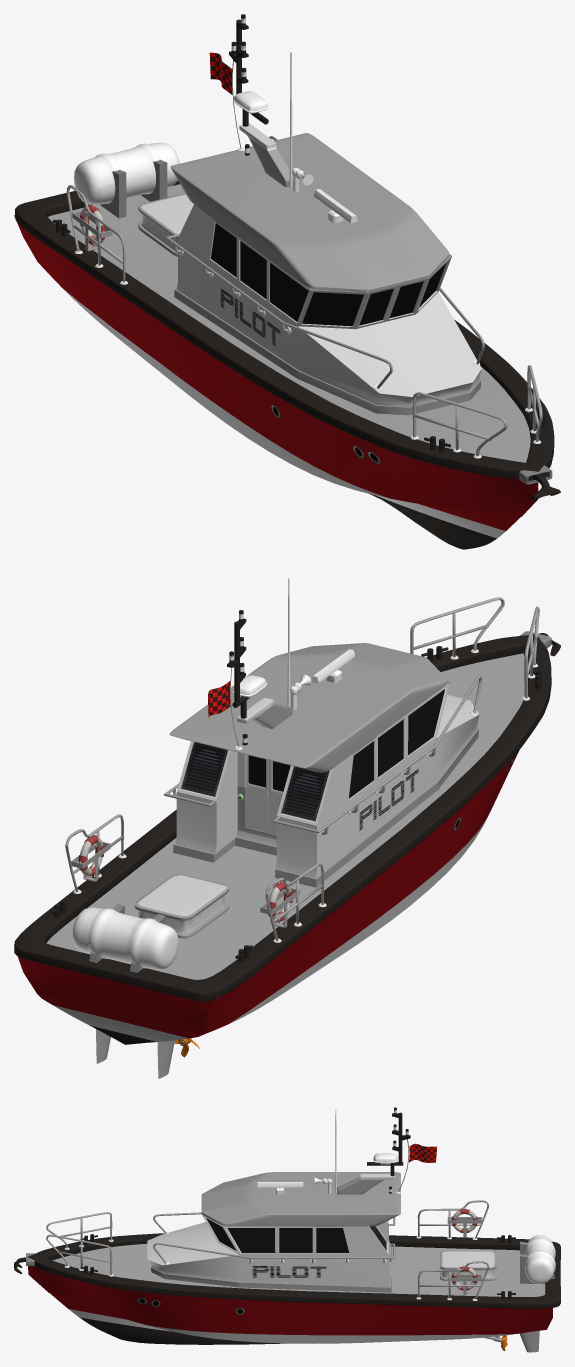
File: pilot_boat_agt14032013.glb
3 views of the same model, one above another, from view 1: azimuth 30°, elevation 25°; view 2: azimuth 150°, elevation 25°; view 3: azimuth 270°, elevation 25° (orthographic). The views are drawn at different scales.
Parts seen in each view (by area): view 1: Object_16, Object_19, Object_15, Object_12, Object_22, Object_20, Object_11, Object_18, Object_7; view 2: Object_16, Object_12, Object_19, Object_22, Object_15, Object_11, Object_20, Object_17, Object_7, Object_9, Object_13; view 3: Object_15, Object_16, Object_12, Object_19, Object_22, Object_20, Object_11, Object_5, Object_7, Object_18, Object_9, Object_13.
Boxes of the visible parts, left/top/right/bottom form: Object_16: left=63, top=123, right=505, bottom=538; Object_19: left=174, top=204, right=481, bottom=415; Object_15: left=14, top=215, right=538, bottom=530; Object_12: left=15, top=14, right=560, bottom=549; Object_22: left=15, top=136, right=542, bottom=462; Object_20: left=211, top=223, right=445, bottom=326; Object_11: left=74, top=52, right=299, bottom=255; Object_18: left=100, top=159, right=552, bottom=484; Object_7: left=95, top=91, right=541, bottom=458; Object_16: left=53, top=643, right=486, bottom=1078; Object_12: left=14, top=610, right=560, bottom=1044; Object_19: left=173, top=682, right=479, bottom=887; Object_22: left=46, top=597, right=539, bottom=998; Object_15: left=18, top=750, right=519, bottom=1038; Object_11: left=72, top=578, right=323, bottom=969; Object_20: left=248, top=689, right=444, bottom=798; Object_17: left=181, top=742, right=329, bottom=821; Object_7: left=94, top=649, right=538, bottom=926; Object_9: left=73, top=649, right=430, bottom=942; Object_13: left=80, top=834, right=291, bottom=923; Object_15: left=28, top=1266, right=552, bottom=1335; Object_16: left=69, top=1172, right=539, bottom=1352; Object_12: left=14, top=1107, right=560, bottom=1344; Object_19: left=147, top=1214, right=391, bottom=1292; Object_22: left=46, top=1200, right=545, bottom=1299; Object_20: left=206, top=1218, right=349, bottom=1252; Object_11: left=279, top=1109, right=555, bottom=1283; Object_5: left=409, top=1143, right=436, bottom=1162; Object_7: left=64, top=1153, right=451, bottom=1300; Object_18: left=26, top=1241, right=554, bottom=1283; Object_9: left=247, top=1182, right=477, bottom=1300; Object_13: left=450, top=1207, right=478, bottom=1289.
Size of the model in its own units: 5.17 by 8.85 by 18.52.
17 materials, 16 textured.
